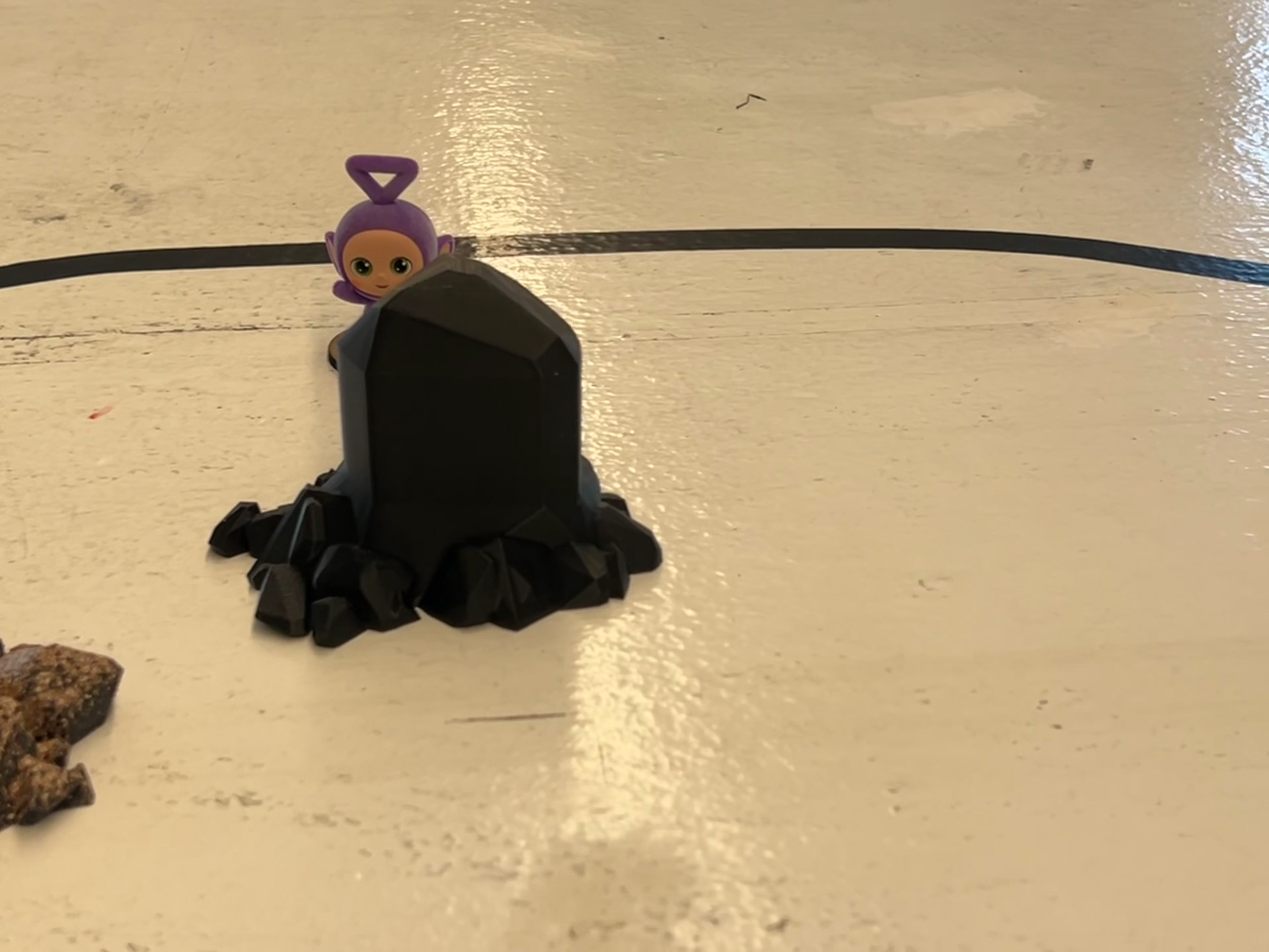teletubby: (325, 155, 453, 307)
